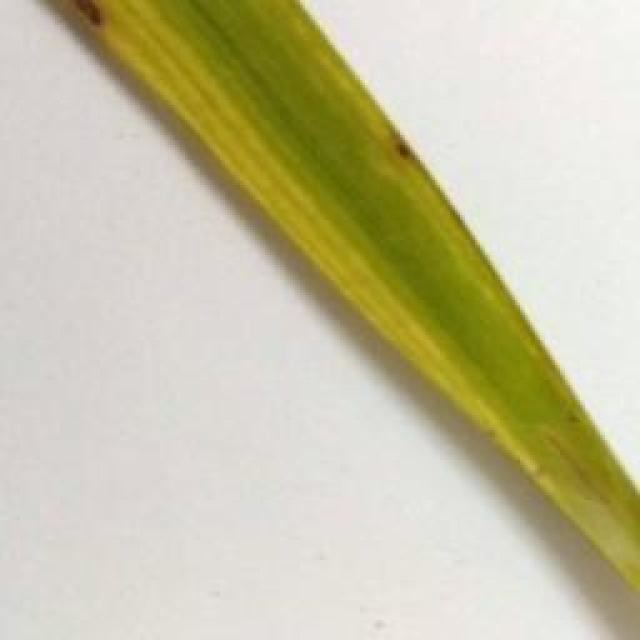Bacterial_Blight: (64, 3, 558, 512)
Brown_Spot: (382, 121, 420, 169), (67, 0, 107, 32), (560, 402, 582, 428)
